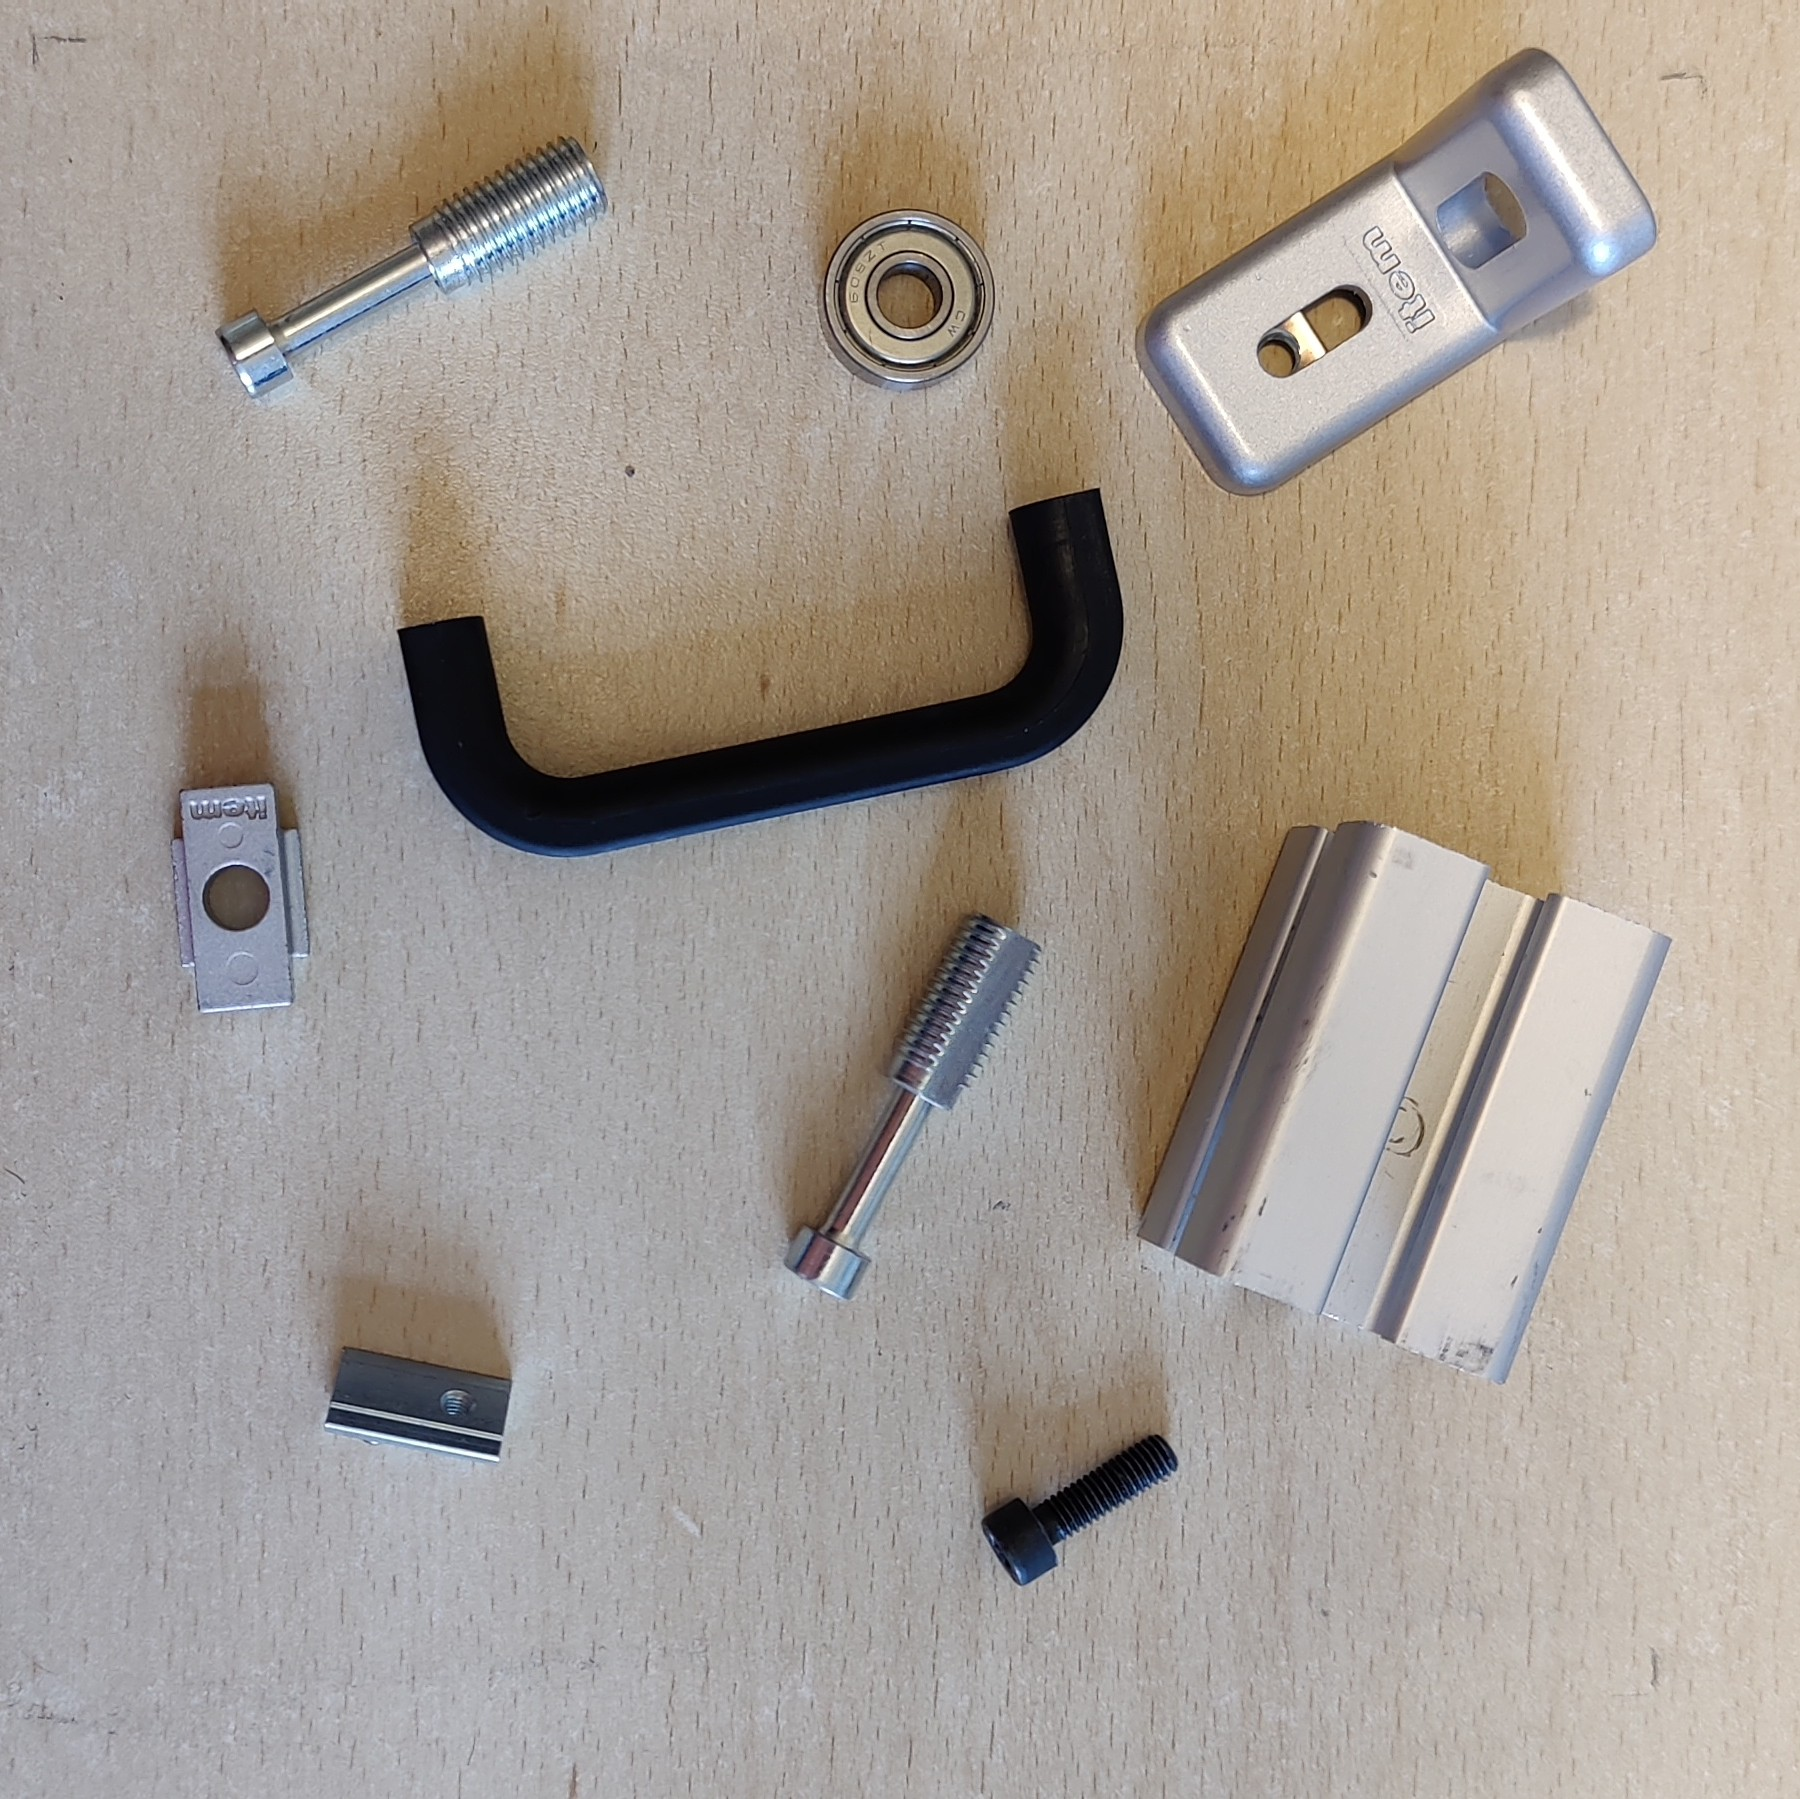Aluminium Extension: (1133, 814, 1673, 1389)
Ball Bearing: (815, 208, 996, 394)
Multiwinkel: (1131, 44, 1658, 499)
Pull Handle: (394, 483, 1126, 860)
Shoulder Socket Head Cap Screw: (212, 132, 613, 404), (782, 908, 1047, 1306)
Socket Head Cap Screw: (978, 1428, 1181, 1588)
T Nut Square: (166, 779, 311, 1018)
T Spring Nut: (319, 1344, 515, 1466)
